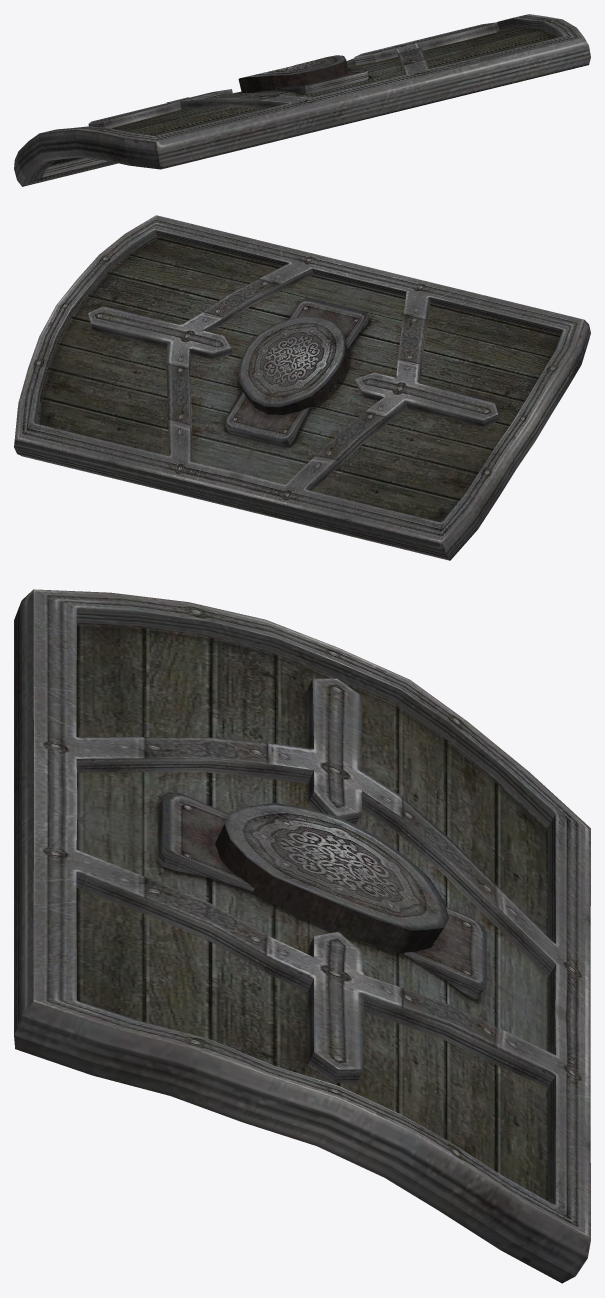
Rendered from SHIELD_02.glb.
3 renders of one model, top to bottom at view 1: azimuth 30°, elevation 25°; view 2: azimuth 150°, elevation 25°; view 3: azimuth 270°, elevation 25°, orthographic. The views are drawn at different scales.
Parts seen in each view (by area): view 1: SHIELD_02; view 2: SHIELD_02; view 3: SHIELD_02.
Part boxes in pixels (x1,y1,x2,y2): SHIELD_02: (14, 14, 590, 186); SHIELD_02: (14, 215, 590, 560); SHIELD_02: (14, 589, 590, 1283).
Bounding box in the file's own units: 0.8817 × 0.2526 × 0.4682.
Materials: 1 (1 with a texture image).
